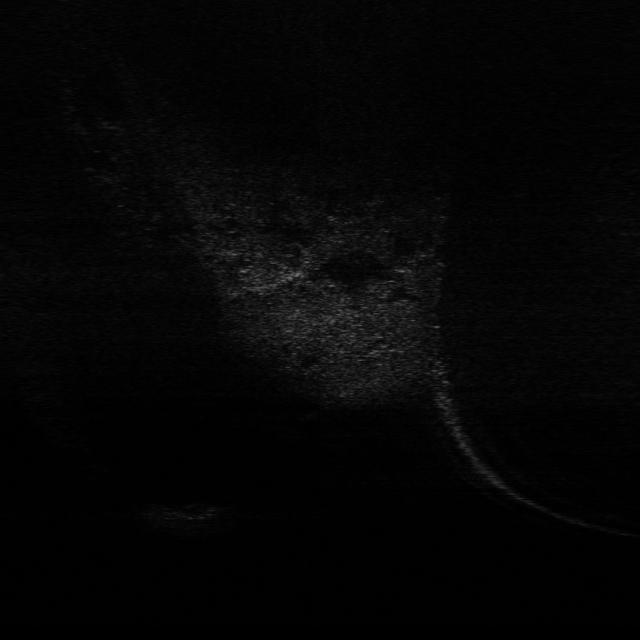cube: (138, 495, 230, 534)
